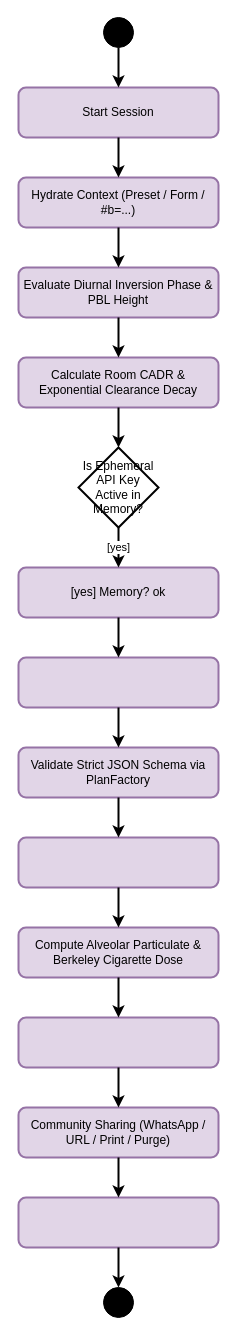
Some shapes in this 236 by 1335 pixel diagram are drawn without their labels. The shapes that lost their labels are listed below. From the top down, each one's centre as x and y in pixels, then its label:
At (118,682): "Dispatch Request to Gemini 3 / 3.8 Flash Cascade".
At (118,862): "Execute Deterministic Offline Rule Advisor".
At (118,1042): "Reconcile Glassmorphic DOM View & Cards".
At (118,1222): "End Session (Cryptographic RAM Zeroization)".
